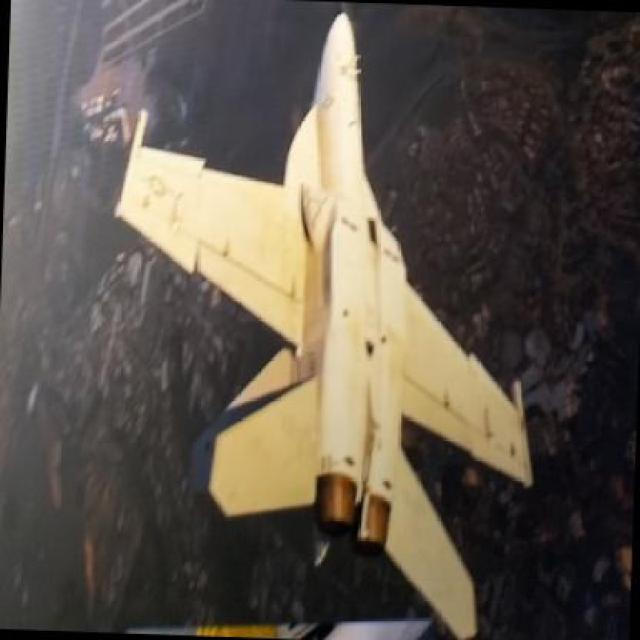iha: (116, 8, 535, 640)
